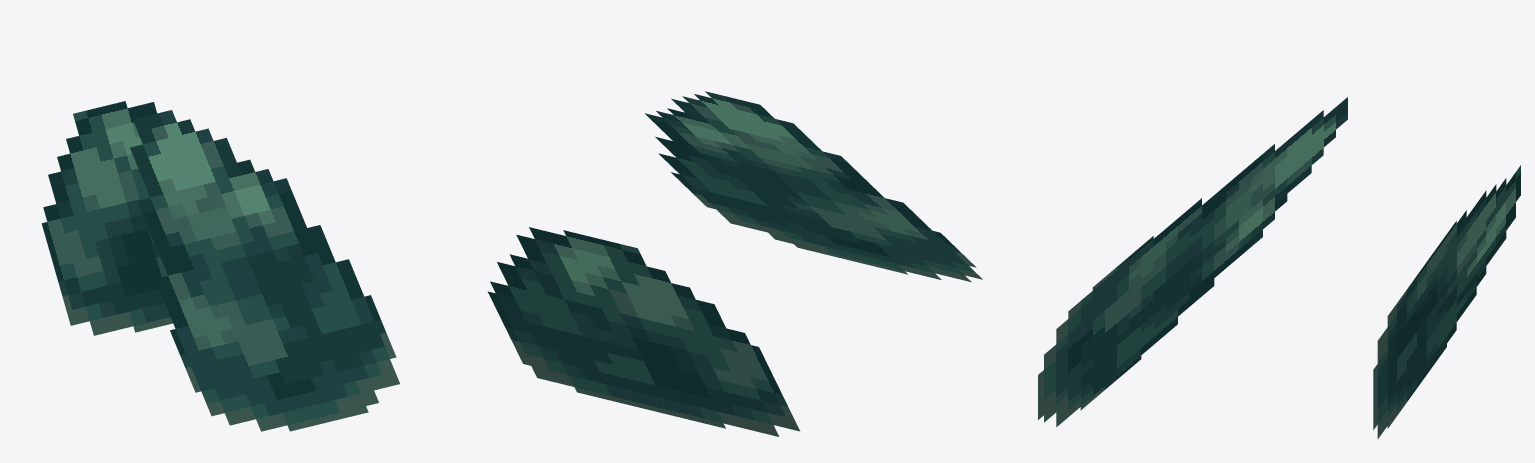
3 renders of one model, left to right at view 1: azimuth 30°, elevation 25°; view 2: azimuth 150°, elevation 25°; view 3: azimuth 270°, elevation 25°, orthographic. The views are drawn at different scales.
Size of the model in its own units: 1 by 1.33 by 1.81.
1 material, 1 textured.
